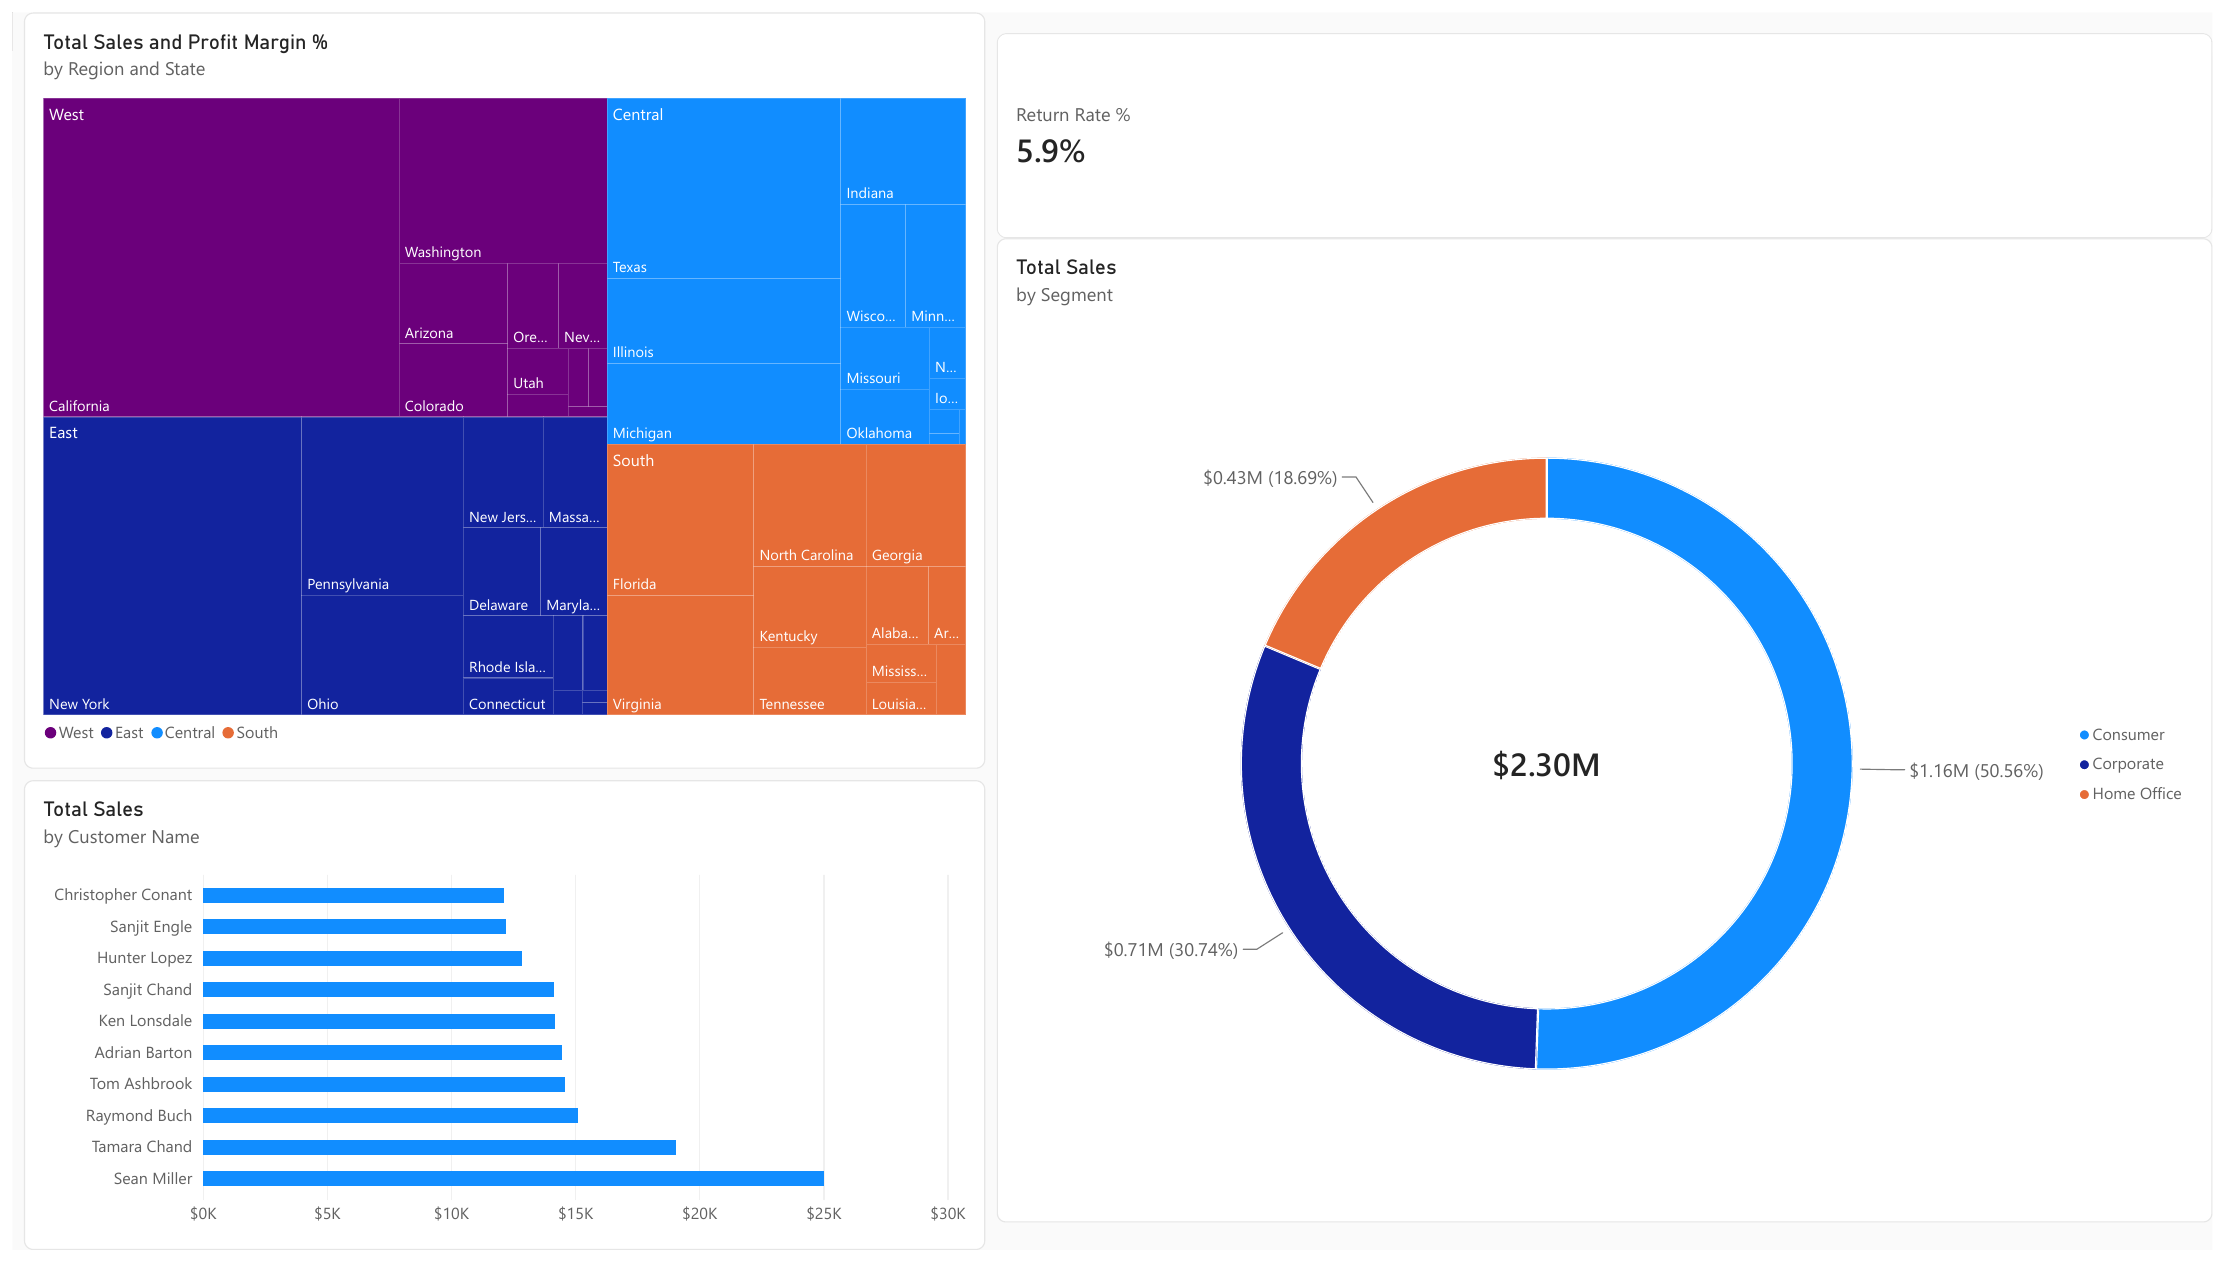

The dashboard page shown, as its layout file describes it:
{"tool":"powerbi","page":{"name":"Regional & Customers","canvas":[1920,1080],"ordinal":2},"visuals":[{"type":"treemap","fields":{"Details":["fact_orders.State"],"Group":["fact_orders.Region"],"Values":["fact_orders.Total Sales"]},"box":[10.1,0,839.1,660.2],"z":0},{"type":"clusteredBarChart","fields":{"Category":["dim_customer.Customer Name"],"Y":["fact_orders.Total Sales"]},"box":[10,670,839,410],"z":1},{"type":"donutChart","fields":{"Category":["dim_customer.Segment"],"Y":["fact_orders.Total Sales"]},"box":[859.2,196.5,1060.8,859.2],"z":2},{"type":"cardVisual","fields":{"Data":["fact_orders.Return Rate %"]},"box":[859.2,17.6,1060.8,178.9],"z":3}]}

Visuals, with their boxes in screenshot pixels (x1, y1, x2, y2), scaled from the page's 1920x1080 canvas onto the 2225x1262 screenshot:
treemap - fact_orders.State x fact_orders.Region: pyautogui.locateOnScreen(12, 0, 984, 771)
clusteredBarChart - dim_customer.Customer Name x fact_orders.Total Sales: pyautogui.locateOnScreen(12, 783, 984, 1261)
donutChart - dim_customer.Segment x fact_orders.Total Sales: pyautogui.locateOnScreen(996, 230, 2224, 1234)
cardVisual - fact_orders.Return Rate %: pyautogui.locateOnScreen(996, 21, 2224, 230)
